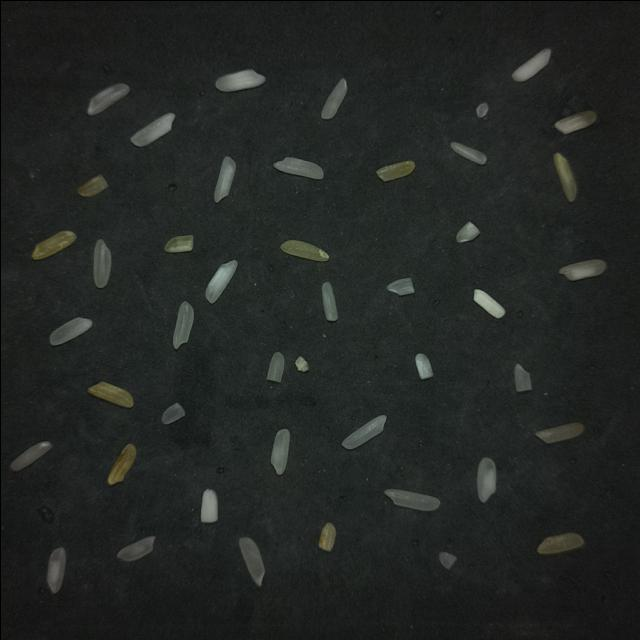broken: (130, 113, 174, 147), (87, 83, 129, 115), (49, 318, 91, 345), (476, 458, 495, 502), (450, 142, 485, 165), (266, 352, 283, 382), (456, 221, 479, 242), (161, 403, 184, 424), (514, 364, 531, 392), (387, 278, 413, 295), (438, 552, 456, 569), (476, 103, 488, 118)
chalky: (511, 49, 550, 82), (215, 70, 265, 92), (554, 111, 595, 134), (473, 289, 504, 318), (200, 489, 217, 522), (414, 353, 432, 380)
discolored: (31, 231, 75, 260), (87, 381, 133, 407), (552, 153, 576, 202), (107, 444, 135, 485), (280, 240, 328, 262), (537, 533, 583, 554), (376, 161, 414, 182), (77, 175, 107, 197), (164, 235, 193, 253), (318, 523, 335, 551)
foreign: (294, 356, 308, 372)
whole: (341, 415, 385, 449), (205, 260, 236, 303), (9, 441, 51, 471), (384, 489, 439, 511), (239, 538, 263, 587), (534, 421, 584, 443), (273, 158, 323, 179), (172, 301, 193, 349), (321, 79, 346, 119), (214, 156, 235, 202), (558, 260, 606, 280), (117, 536, 155, 561), (46, 547, 65, 594), (270, 429, 289, 475), (93, 240, 110, 288), (321, 282, 336, 321)
